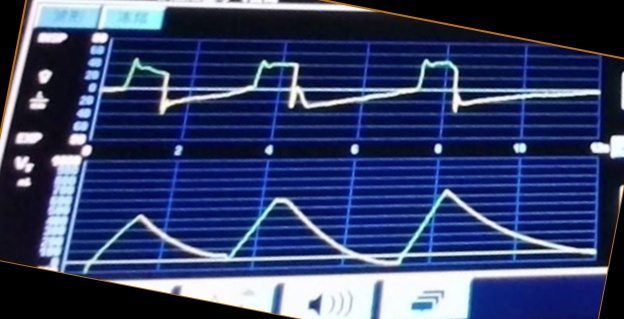Premature_cycling Flow: (109, 53, 584, 137)
Premature_cycling Volume: (81, 185, 594, 268)
